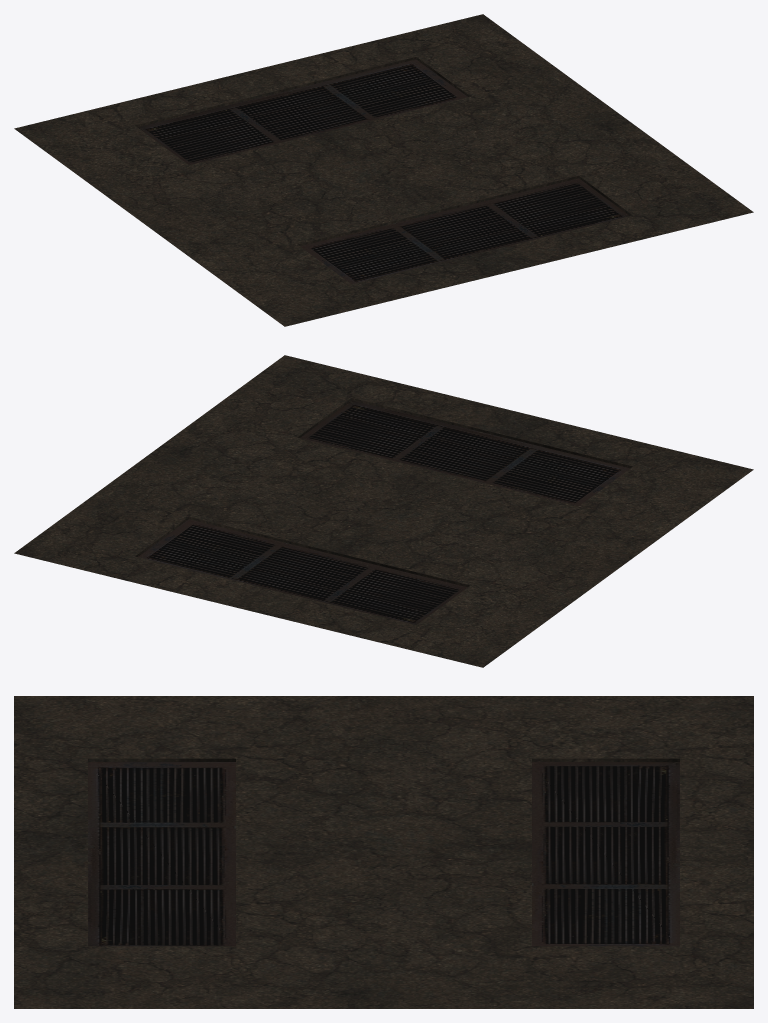
File: asphalt_hr_3.fbx
3 views of the same model, one above another, from view 1: azimuth 30°, elevation 25°; view 2: azimuth 150°, elevation 25°; view 3: azimuth 270°, elevation 25° (orthographic). The views are drawn at different scales.
Visible parts, largest first — view 1: asphalt_hr_3; view 2: asphalt_hr_3; view 3: asphalt_hr_3.
Boxes of the visible parts, x1,y1,x2,y2 form: asphalt_hr_3: (14,14,753,326); asphalt_hr_3: (14,355,753,667); asphalt_hr_3: (14,696,753,1008).
Size of the model in its own units: 4 by 4 by 0.02.
